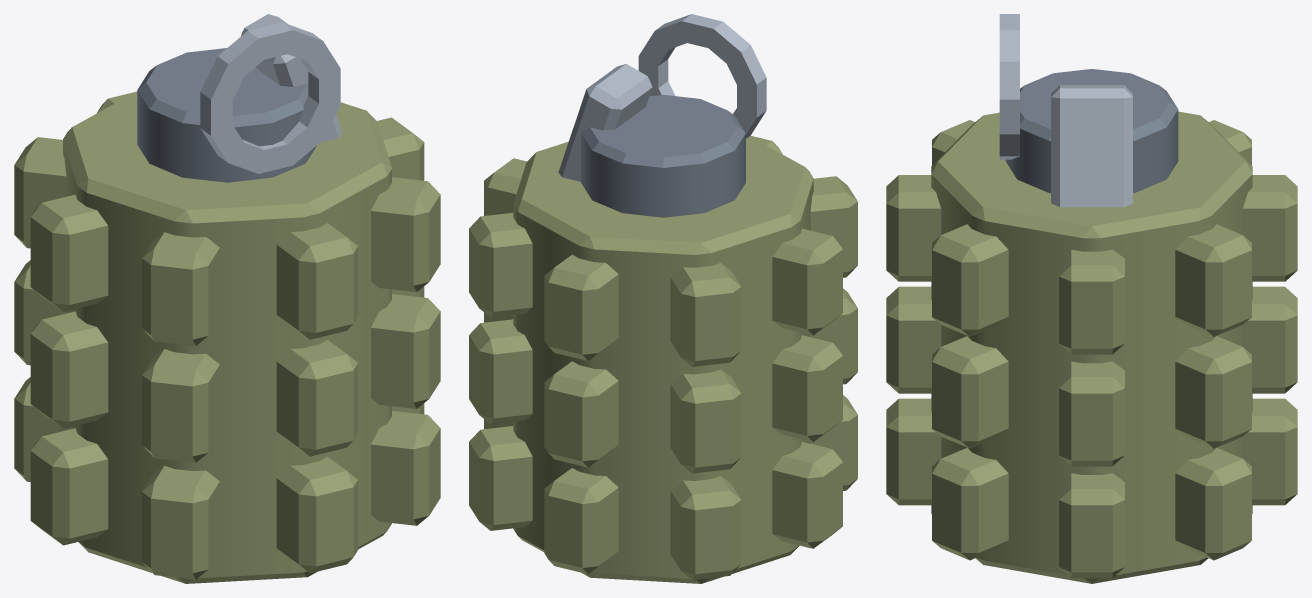
File: Throwable_Grenade_v001.fbx
3 views of the same model, side by side, from view 1: azimuth 30°, elevation 25°; view 2: azimuth 150°, elevation 25°; view 3: azimuth 270°, elevation 25° (orthographic). The views are drawn at different scales.
Visible parts, largest first — view 1: Throwable_Grenade__RECEIVER_MESH; view 2: Throwable_Grenade__RECEIVER_MESH; view 3: Throwable_Grenade__RECEIVER_MESH.
Part boxes in pixels (x1,y1,x2,y2): Throwable_Grenade__RECEIVER_MESH: (14,14,440,583); Throwable_Grenade__RECEIVER_MESH: (469,14,857,583); Throwable_Grenade__RECEIVER_MESH: (886,14,1297,583).
Bounding box in the file's own units: 0.5 × 0.6669 × 0.5.
